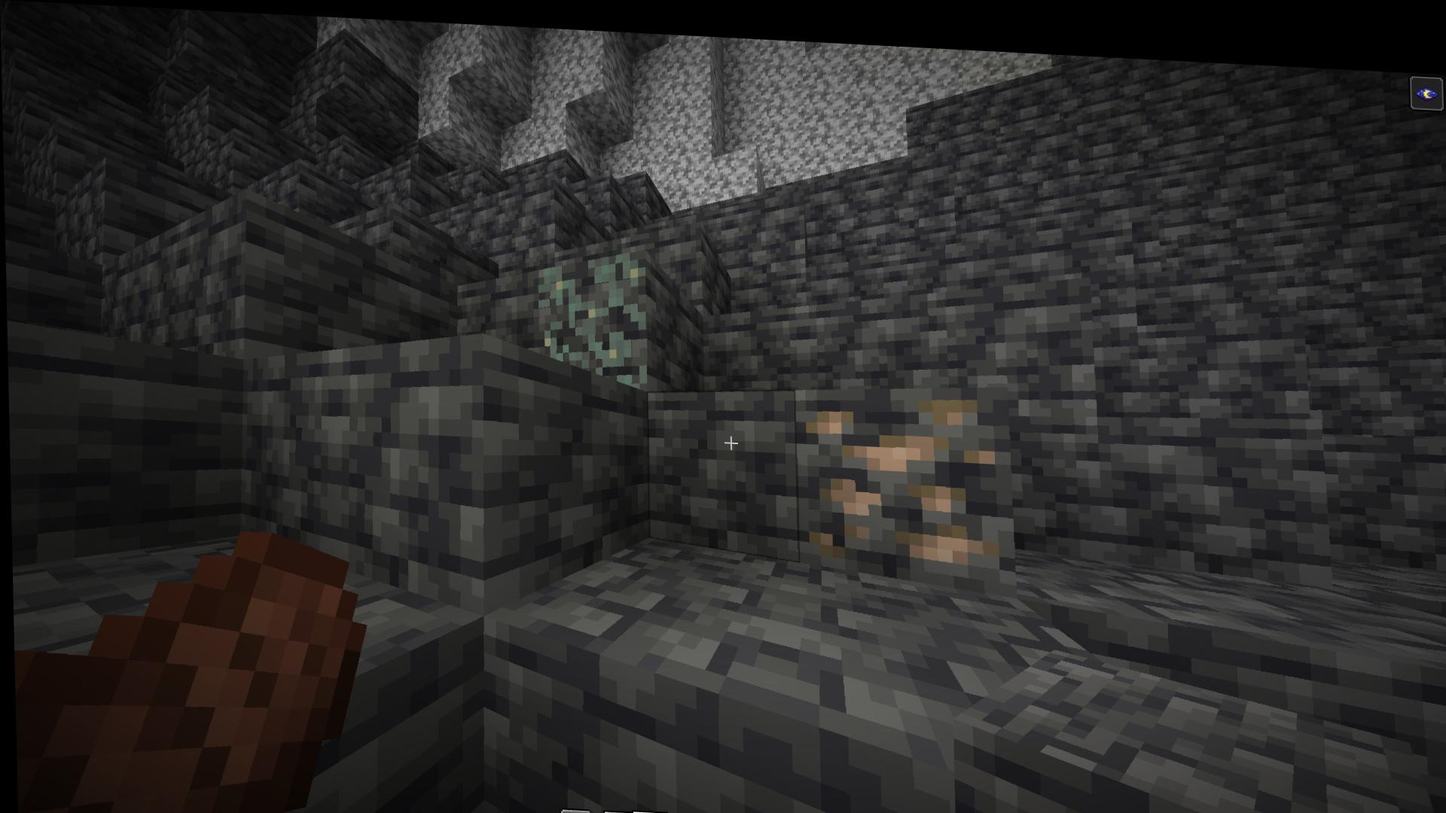iron ore: (803, 384, 999, 580)
